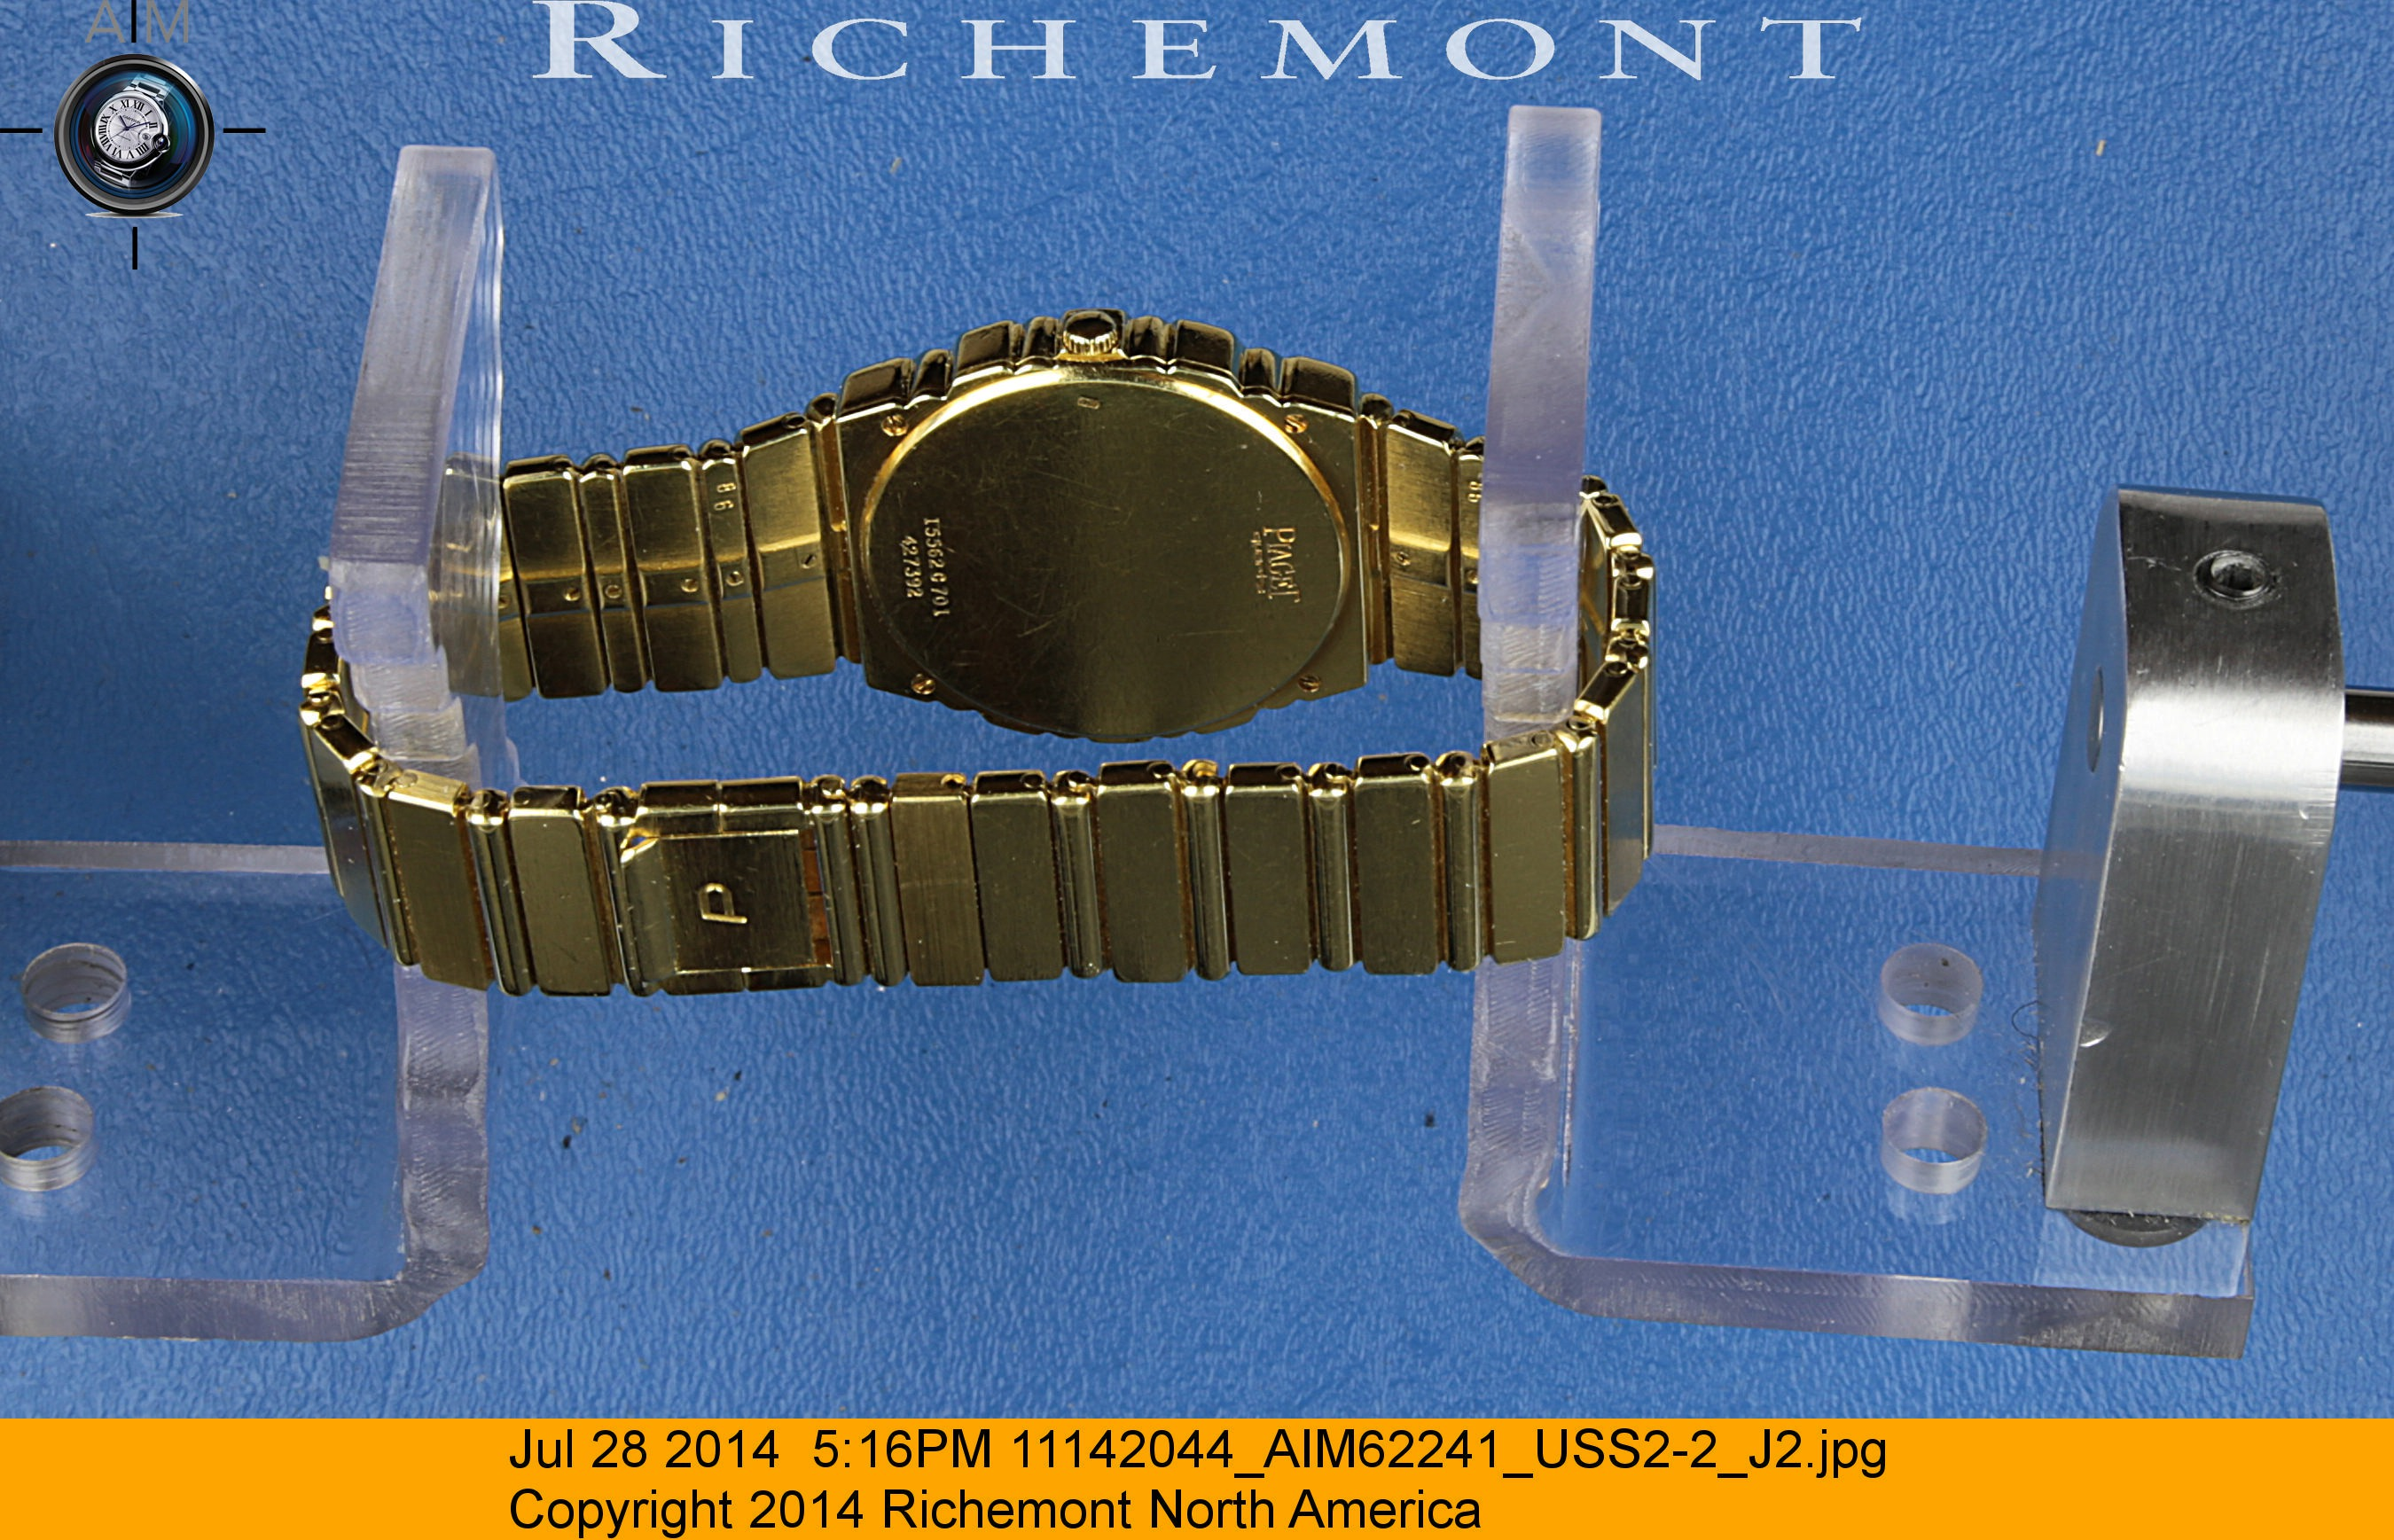Watch BackCase: (818, 316, 1382, 753)
